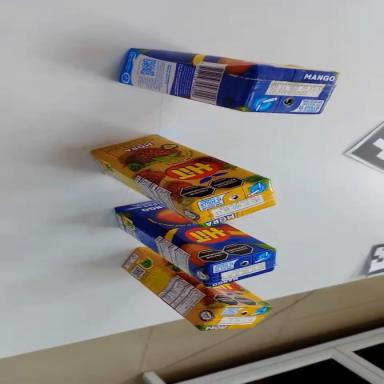HIT-MANGO: (103, 176, 282, 309), (116, 46, 338, 121)
HIT-MORA: (82, 115, 282, 248), (116, 226, 271, 355)
cara_F: (86, 114, 267, 225), (112, 172, 275, 288), (138, 227, 271, 328)
